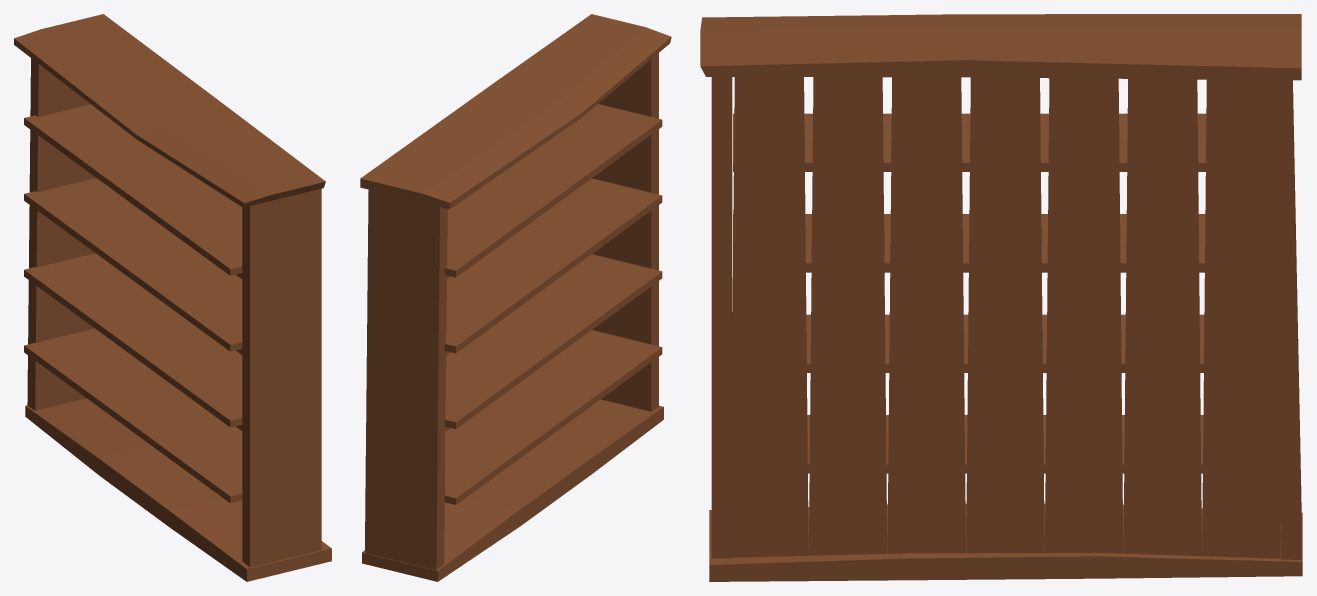
Rendered from regal.fbx.
The picture shows the model from 3 angles, left to right: view 1: azimuth 30°, elevation 25°; view 2: azimuth 150°, elevation 25°; view 3: azimuth 270°, elevation 25°; orthographic projection. The views are drawn at different scales.
Visible parts, largest first — view 1: Regalwand; view 2: Regalwand; view 3: Regalwand.
Boxes of the visible parts, x1,y1,x2,y2 form: Regalwand: [14, 14, 331, 581]; Regalwand: [360, 14, 671, 581]; Regalwand: [700, 14, 1302, 581].
Bounding box in the file's own units: 167 × 625 × 663.
